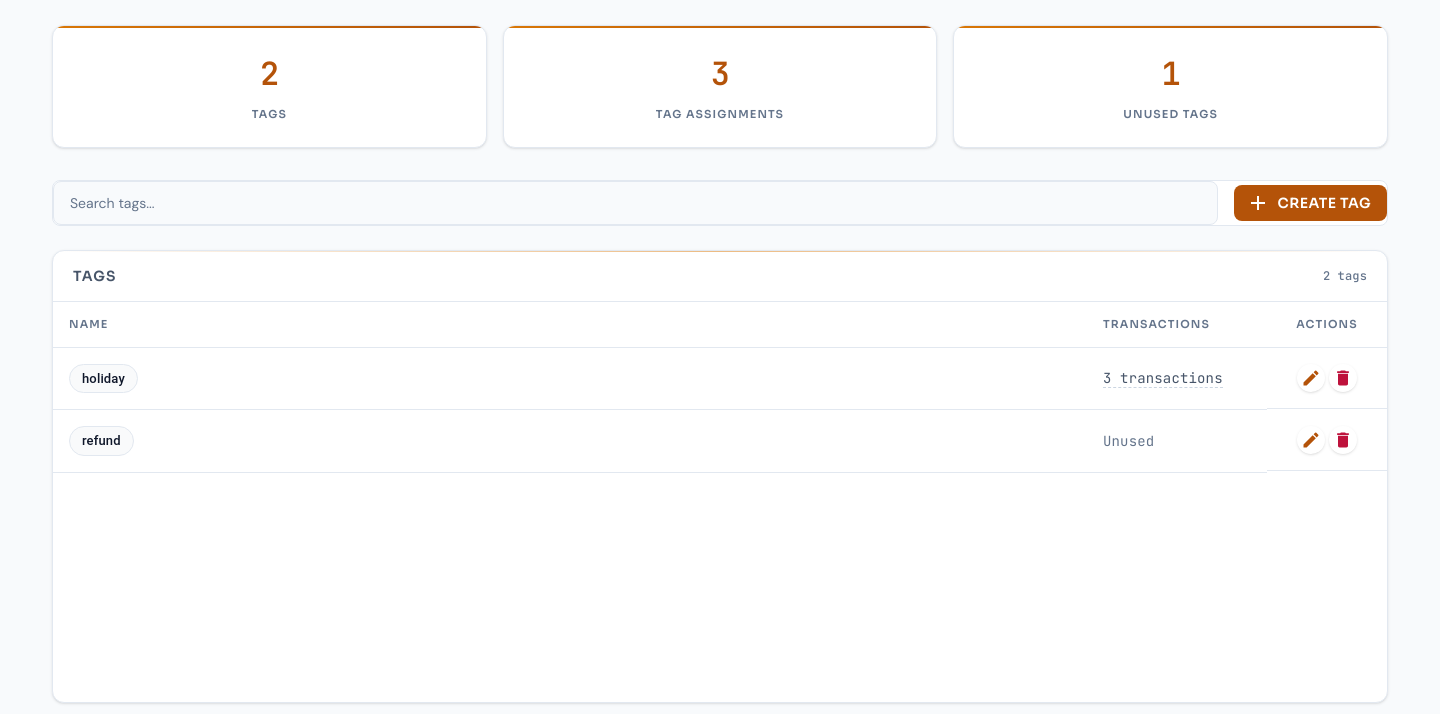
Test: TagsPage › cancelling the confirmation does not delete
Click the button titled "Delete tag" in the row of "holiday" at (1343,378), box [1329,364,1357,392]
(page scrolled)
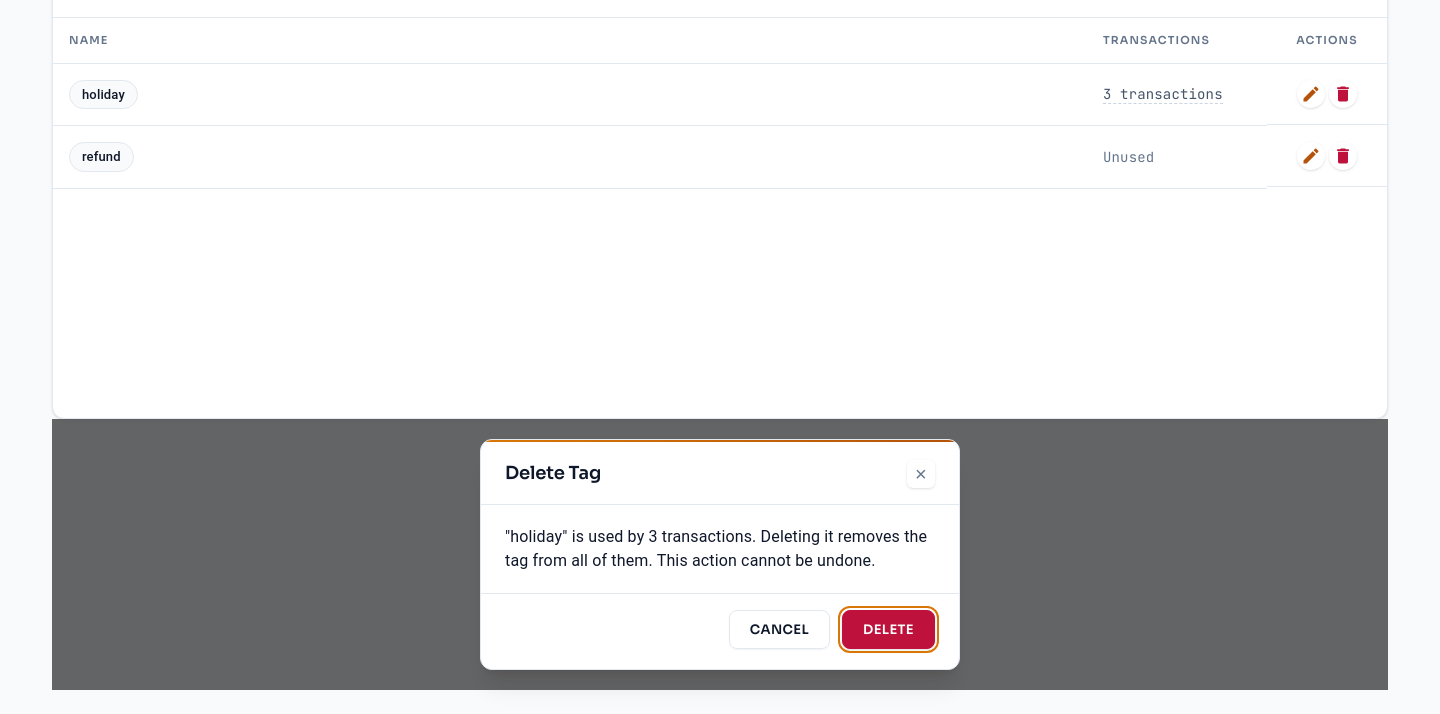
Expected: the heading "Delete Tag" is shown, [505,462,601,486]
Click the button "Cancel" at (779,630), box [729,610,830,649]
(page scrolled)
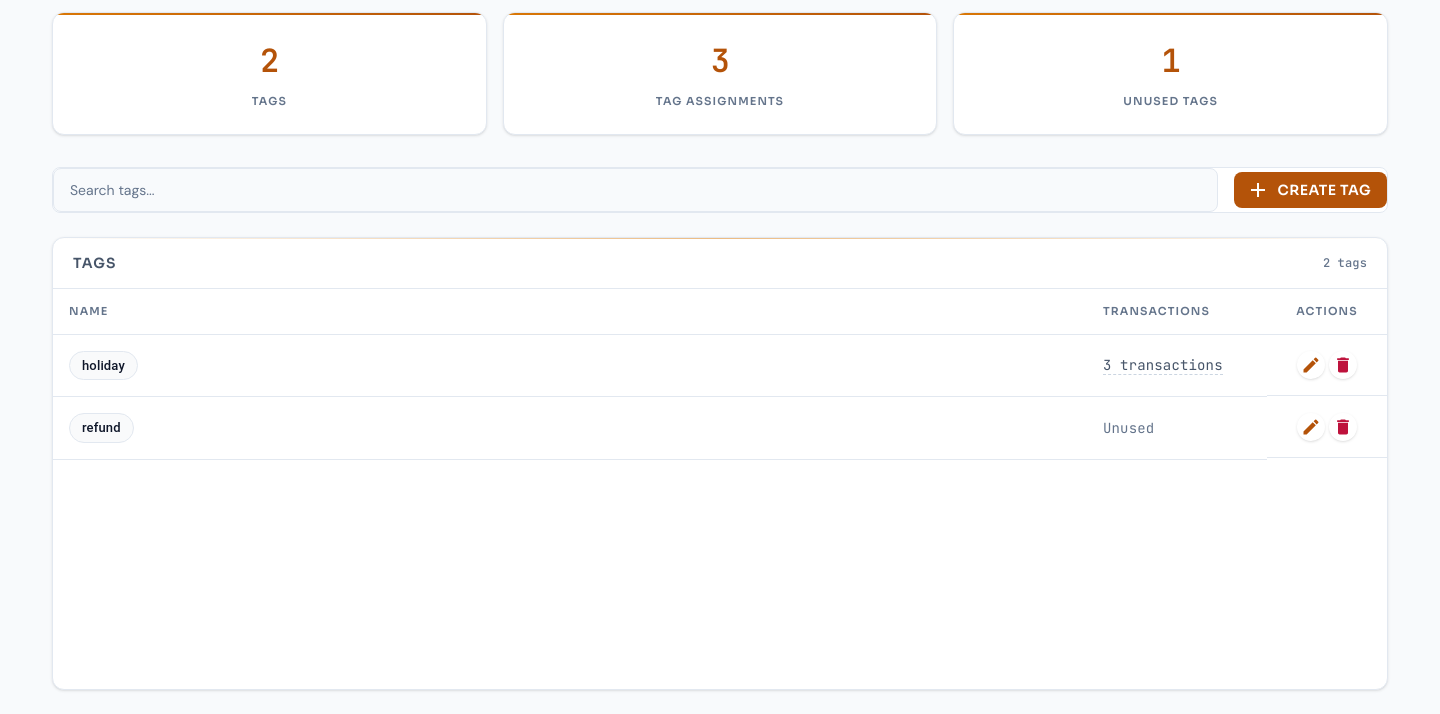
Expected: the heading "Delete Tag" is gone
